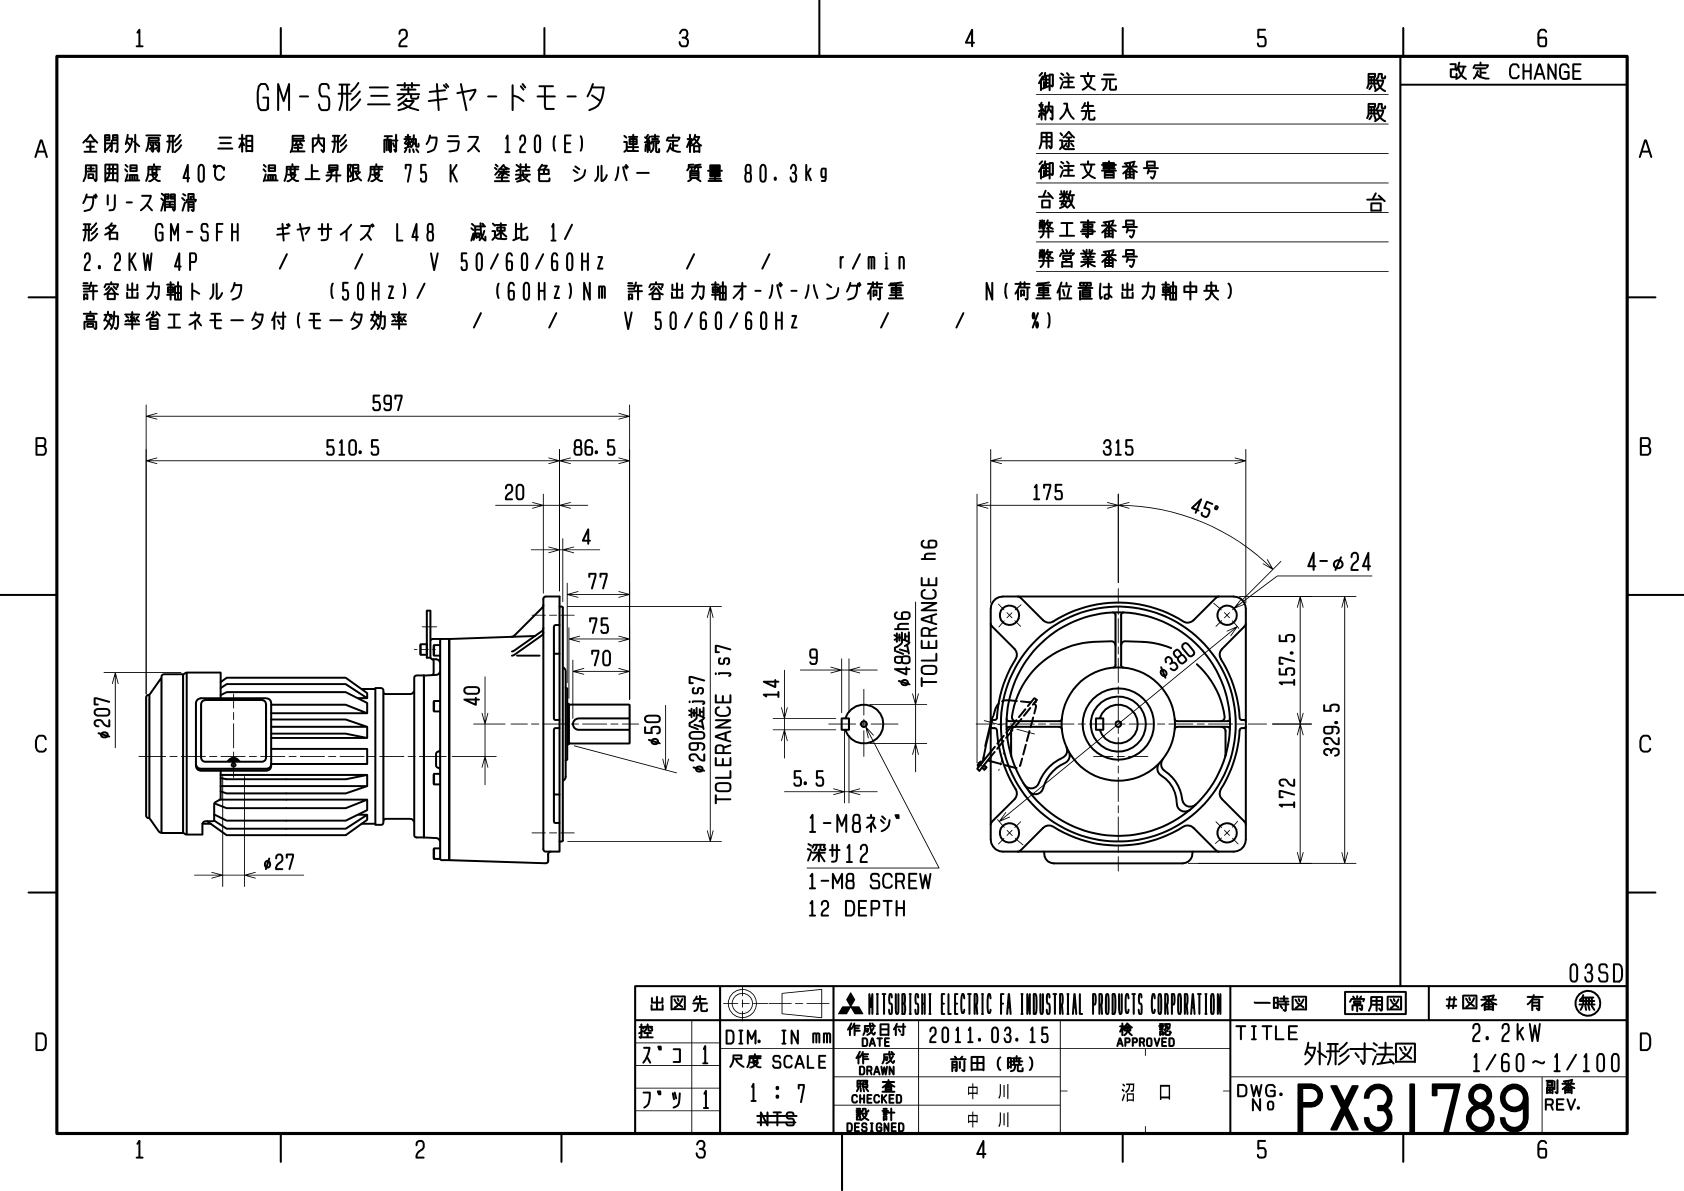GM_S_高効率屋内＿三相_フランジ: (6, 3, 1684, 1183)
